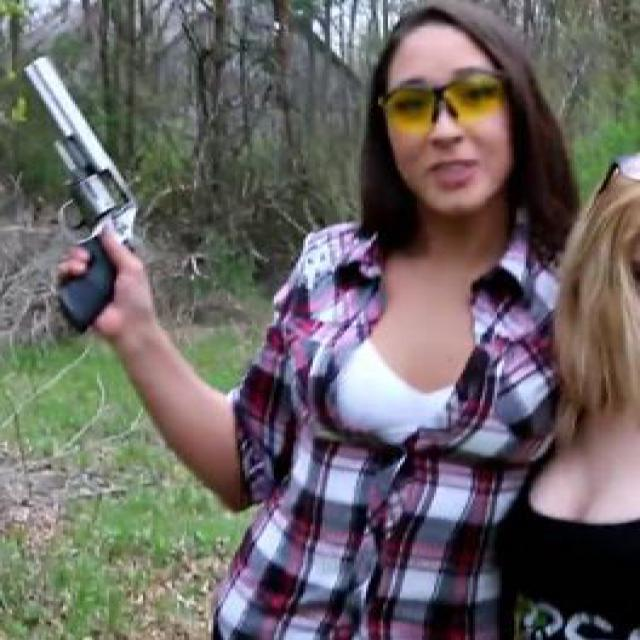gun: (10, 54, 160, 326)
